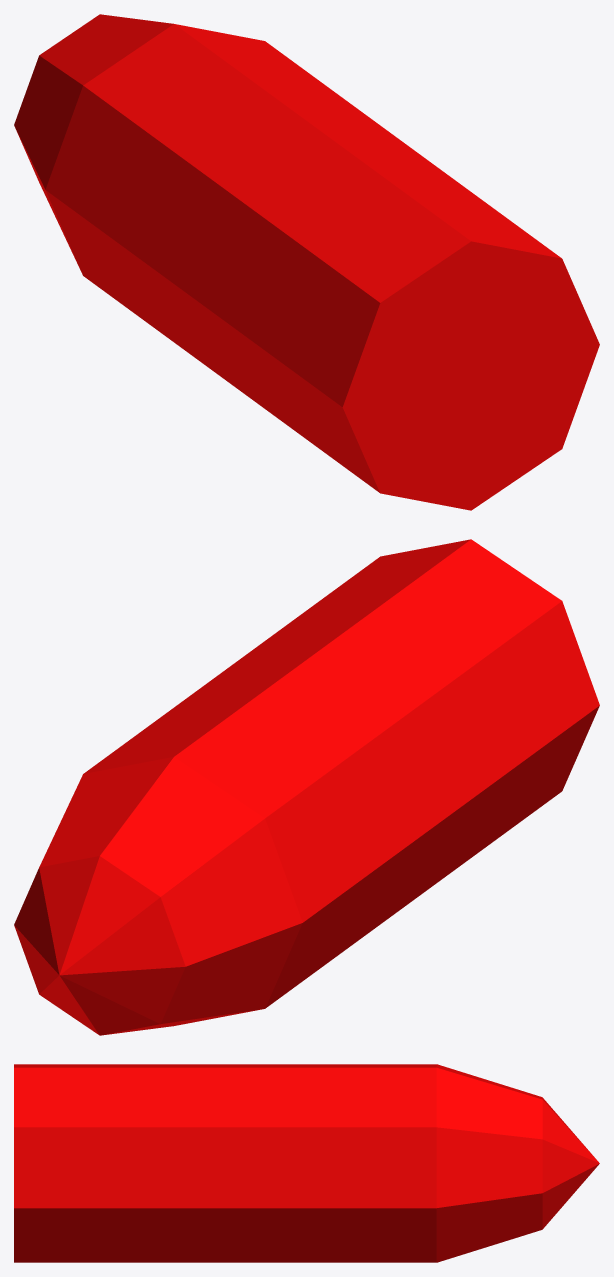
Rendered from ammo.001.model.fbx.
The picture shows the model from 3 angles, top to bottom: view 1: azimuth 30°, elevation 25°; view 2: azimuth 150°, elevation 25°; view 3: azimuth 270°, elevation 25°; orthographic projection. The views are drawn at different scales.
Parts seen in each view (by area): view 1: Missile; view 2: Missile; view 3: Missile.
Part boxes in pixels (left/top/right/bottom): Missile: left=14, top=14, right=599, bottom=510; Missile: left=14, top=539, right=599, bottom=1035; Missile: left=14, top=1064, right=599, bottom=1262.
Bounding box in the file's own units: 0.04 × 0.1109 × 0.04.
